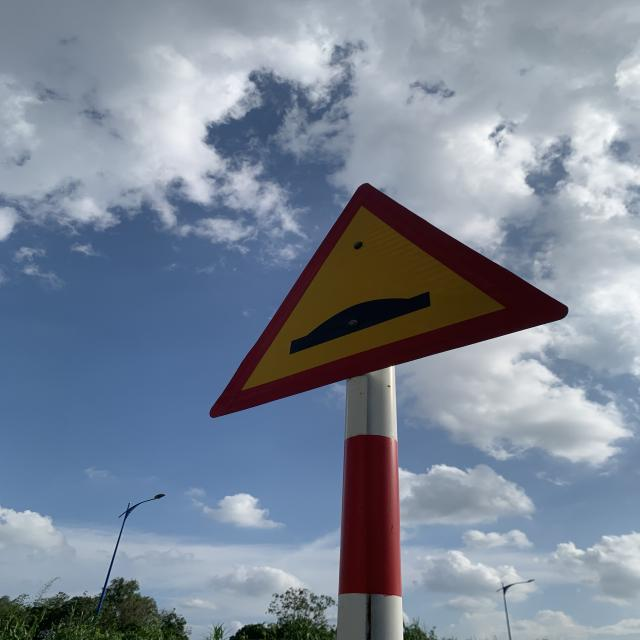Duong_Cong_Ben_Phai: (208, 180, 570, 418)
